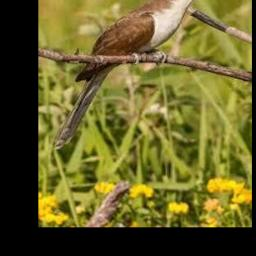Cuckoo: (53, 0, 218, 148)
